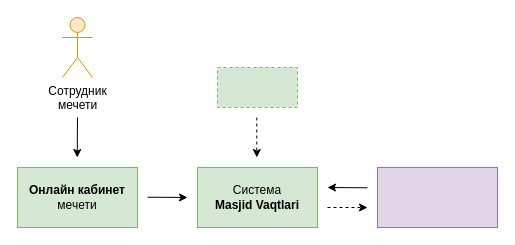
Some shapes in this 515 by 245 pixel diagram are drawn without their labels. The centre of each missing label's shape, as x and y in pixels:
"Parser'ы" goes at point 257,87.
"Интеграции: Islom.uz, Яндекс Карты и тд." goes at point 437,197.
